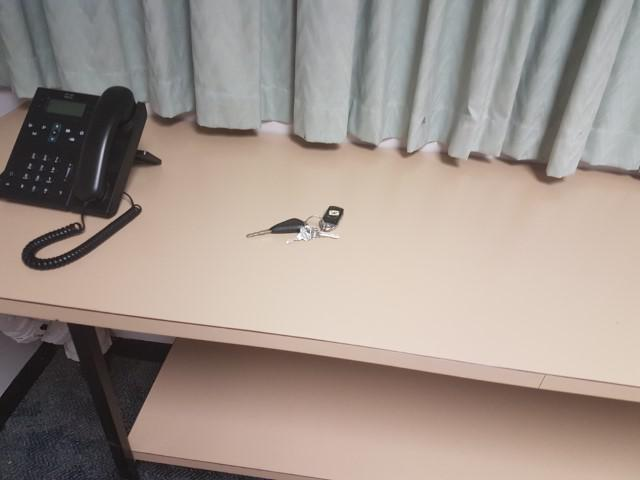key: (246, 217, 307, 239)
